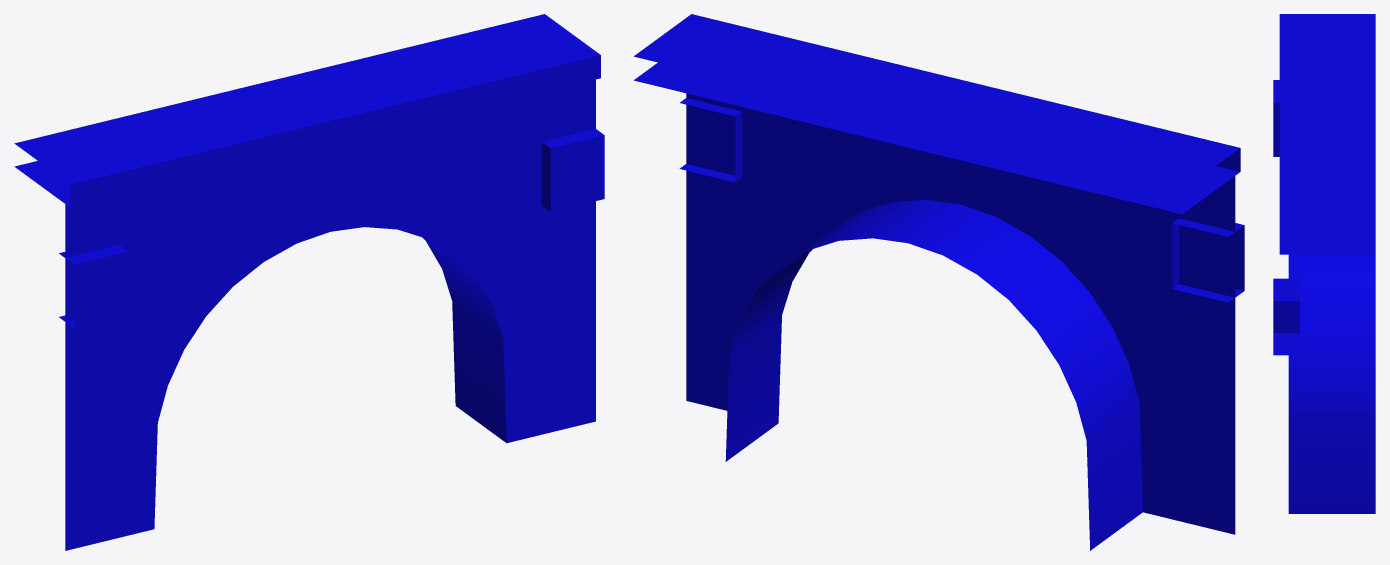
The model's file is SM_town_BD_1Ftop.fbx.
The picture shows the model from 3 angles, left to right: view 1: azimuth 30°, elevation 25°; view 2: azimuth 150°, elevation 25°; view 3: azimuth 270°, elevation 25°; orthographic projection. The views are drawn at different scales.
Visible parts, largest first — view 1: 1F_window_wall_top_low.005; view 2: 1F_window_wall_top_low.005; view 3: 1F_window_wall_top_low.005.
Boxes of the visible parts, left/top/right/bottom form: 1F_window_wall_top_low.005: left=14, top=14, right=604, bottom=550; 1F_window_wall_top_low.005: left=634, top=14, right=1244, bottom=550; 1F_window_wall_top_low.005: left=1273, top=14, right=1375, bottom=513.
Bounding box in the file's own units: 240 × 160 × 47.
